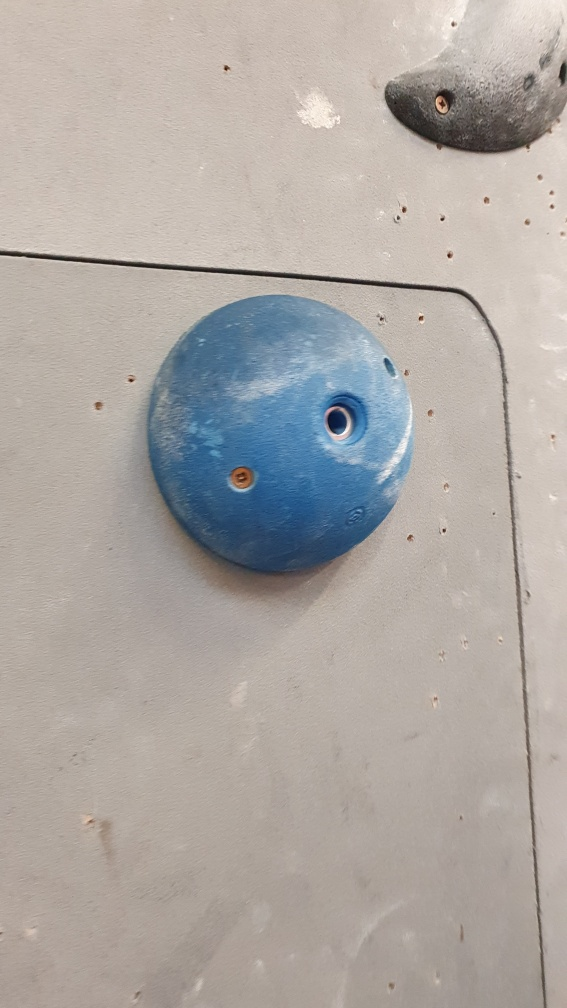Sloper: (141, 291, 417, 578)
